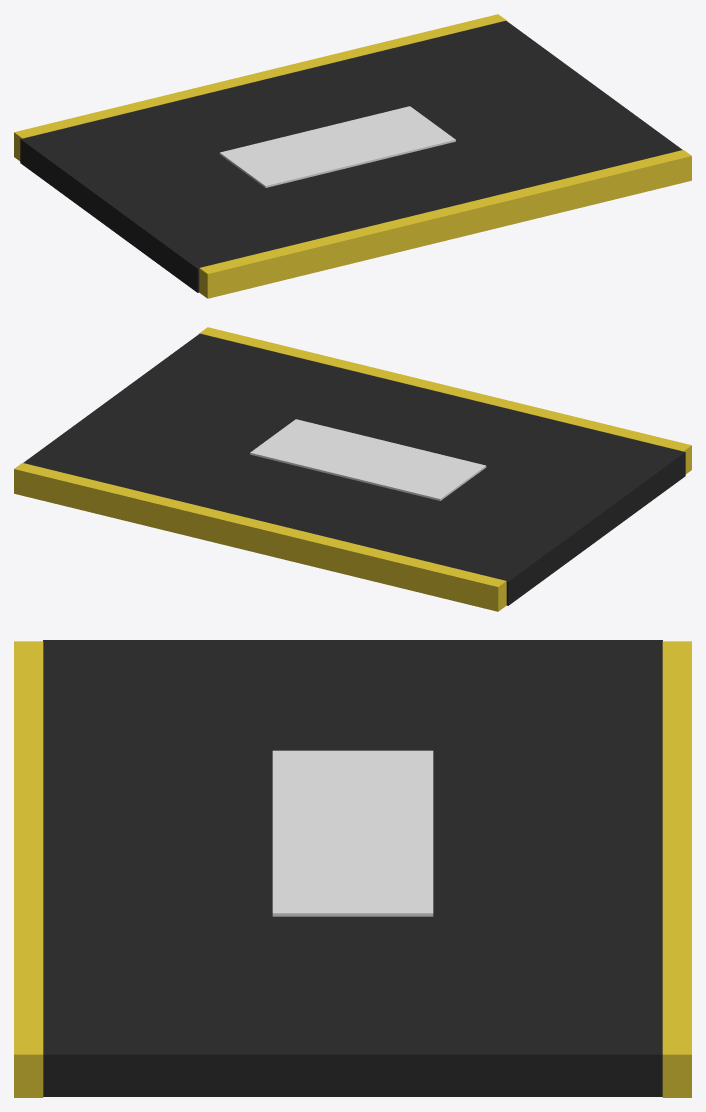
File: MiddleRoad.fbx
3 views of the same model, one above another, from view 1: azimuth 30°, elevation 25°; view 2: azimuth 150°, elevation 25°; view 3: azimuth 270°, elevation 25° (orthographic). The views are drawn at different scales.
Visible parts, largest first — view 1: MainRoad, YellowLines, Cube; view 2: MainRoad, YellowLines, Cube; view 3: MainRoad, YellowLines, Cube.
Boxes of the visible parts, <box> form: MainRoad: <box>20,21,682,292</box>; YellowLines: <box>14,14,691,298</box>; Cube: <box>219,106,455,187</box>; MainRoad: <box>23,334,685,605</box>; YellowLines: <box>14,327,691,611</box>; Cube: <box>250,419,486,500</box>; MainRoad: <box>43,640,662,1096</box>; YellowLines: <box>14,641,691,1097</box>; Cube: <box>272,750,433,916</box>.
Size of the model in its own units: 267 by 13.9 by 185.
